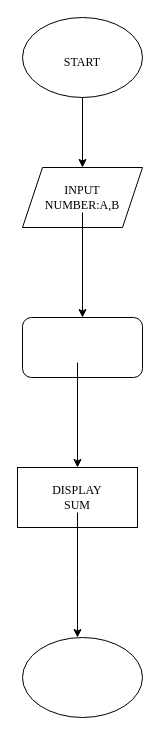
This 160x735 diagram has some shape labels left out. The shapes that lost their labels are listed below. From the top down, each one's centre as x and y in pixels, then its label:
(82,347): SUM=A+B
(82,677): STOP
